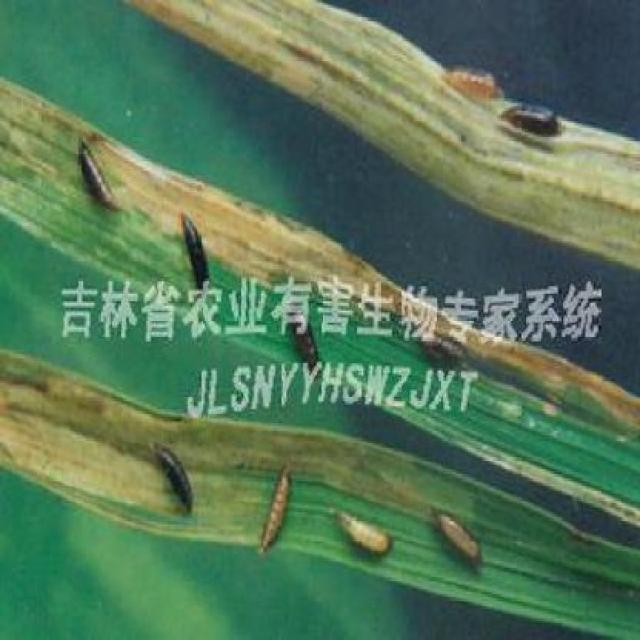whorl-maggot: (332, 495, 398, 568), (79, 134, 123, 221), (152, 445, 199, 520), (258, 463, 296, 555), (430, 506, 485, 568), (502, 94, 564, 138), (442, 58, 501, 100), (178, 210, 216, 275)
